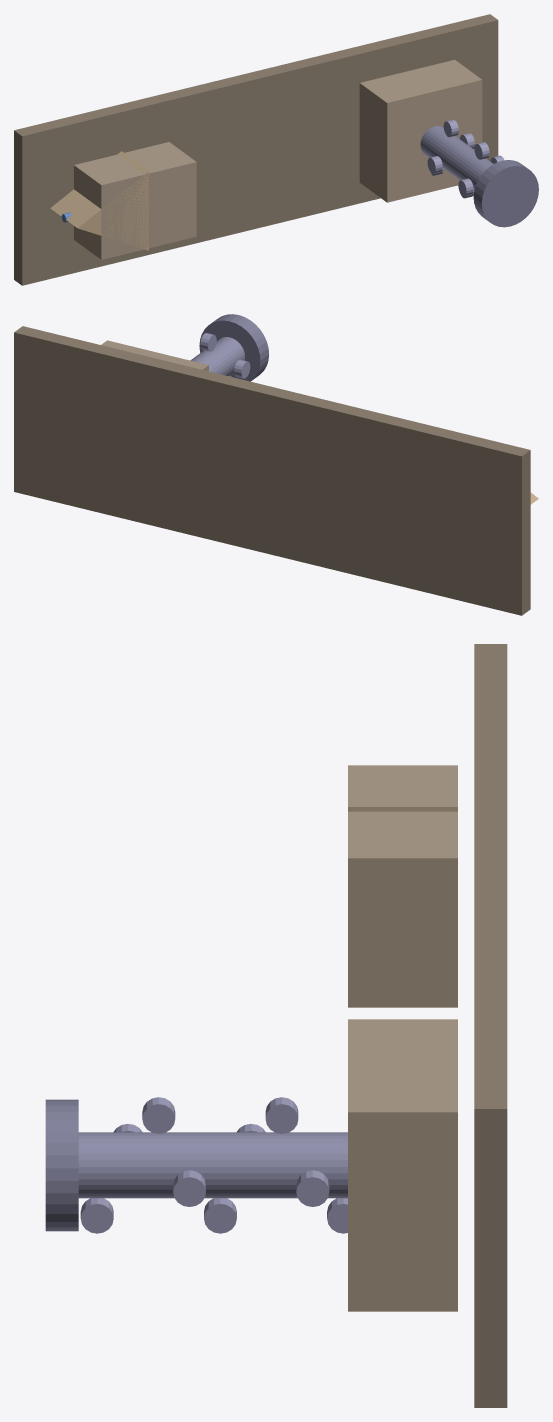
Rendered from wedge_screw.glb.
The picture shows the model from 3 angles, top to bottom: view 1: azimuth 30°, elevation 25°; view 2: azimuth 150°, elevation 25°; view 3: azimuth 270°, elevation 25°; orthographic projection. The views are drawn at different scales.
Parts seen in each view (by area): view 1: world; view 2: world; view 3: world.
Part boxes in pixels (<box>): world: <box>14,14,538,285</box>; world: <box>14,314,538,615</box>; world: <box>45,644,507,1407</box>.
Size of the model in its own units: 10 by 3 by 4.2.
